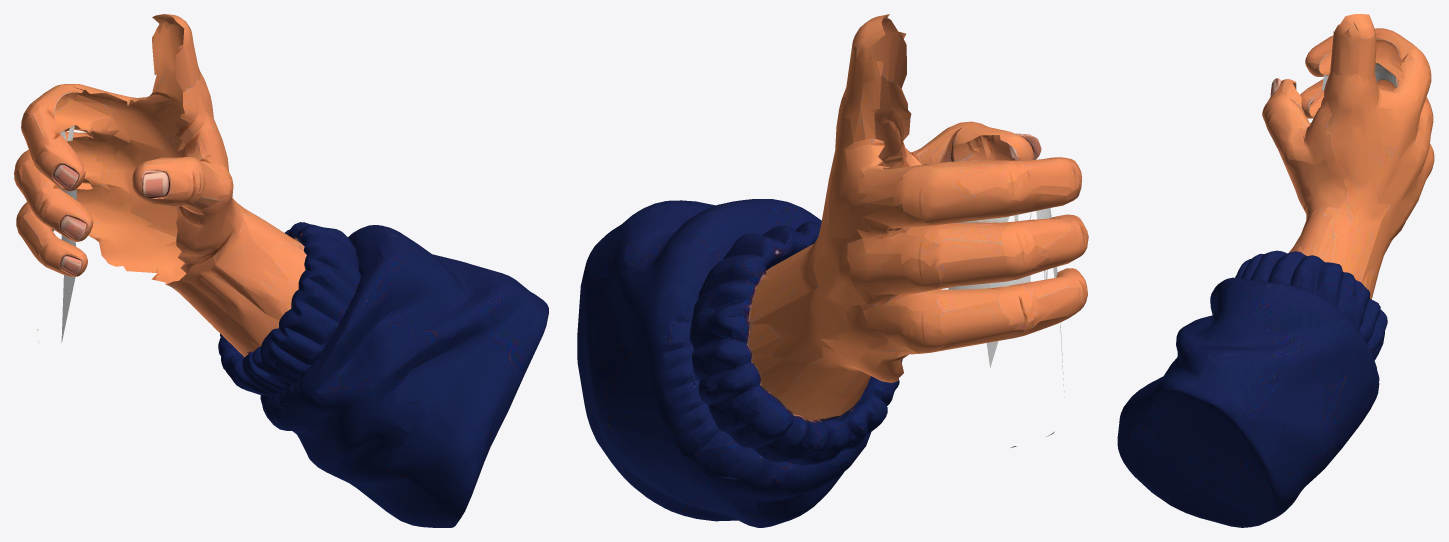
Rendered from viewmodel_can_hand.glb.
3 views of the same model, side by side, from view 1: azimuth 30°, elevation 25°; view 2: azimuth 150°, elevation 25°; view 3: azimuth 270°, elevation 25° (orthographic). The views are drawn at different scales.
Visible parts, largest first — view 1: Mesh_0; view 2: Mesh_0; view 3: Mesh_0.
Part boxes in pixels (x1=…): Mesh_0: x1=14, y1=14, x2=548, y2=527; Mesh_0: x1=577, y1=14, x2=1088, y2=527; Mesh_0: x1=1117, y1=14, x2=1434, y2=527.
Bounding box in the file's own units: 0.2818 × 0.2957 × 0.199.
1 material, 1 textured.
